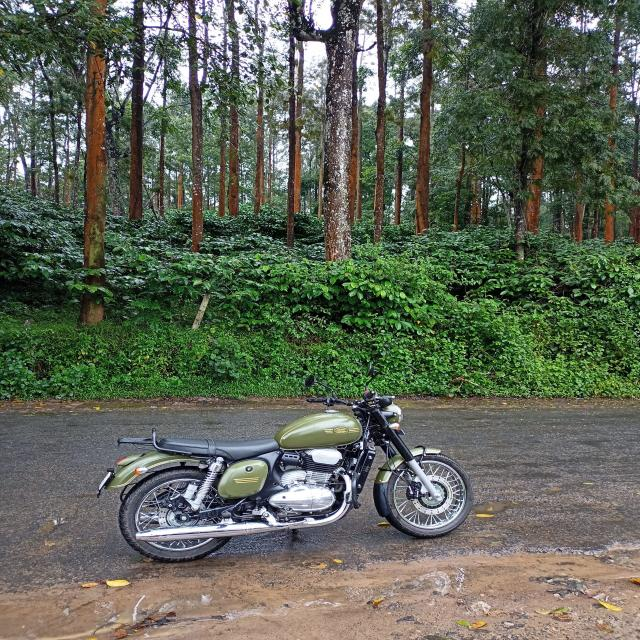Bike: (101, 383, 478, 569)
